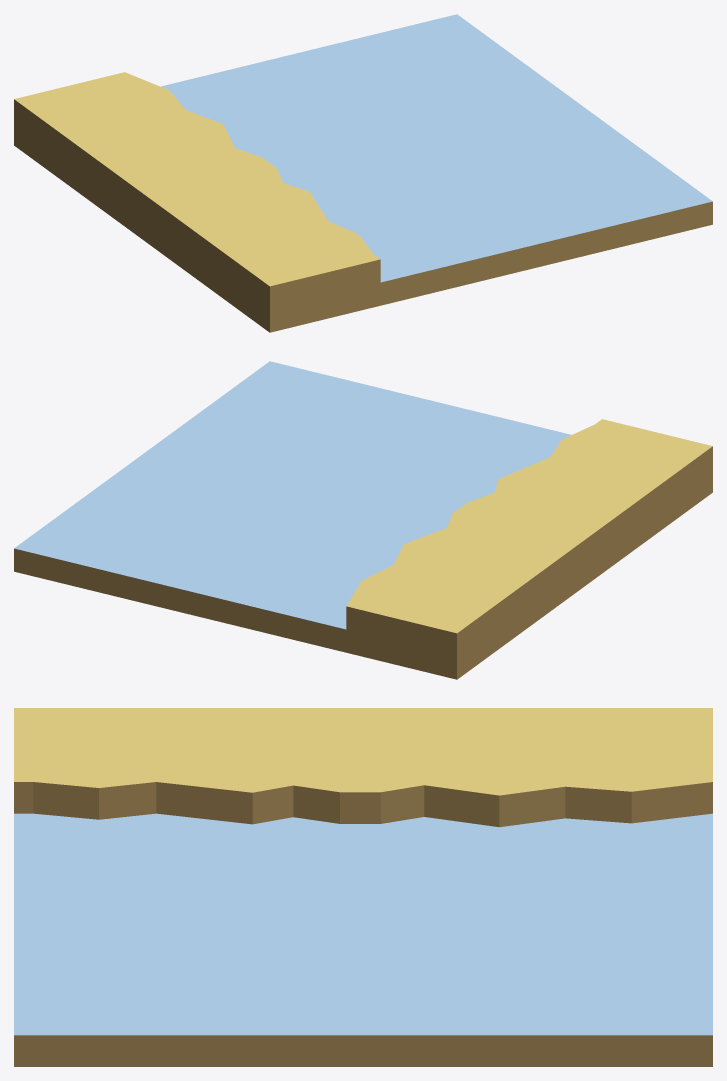
File: Terrain_Modular_Tiles_Sand_Dirt_Water_Edge_Straight_03.fbx
The picture shows the model from 3 angles, top to bottom: view 1: azimuth 30°, elevation 25°; view 2: azimuth 150°, elevation 25°; view 3: azimuth 270°, elevation 25°; orthographic projection. The views are drawn at different scales.
Parts seen in each view (by area): view 1: Terrain_Modular_Tiles_Sand_Dirt_Water_Edge_Straight_03; view 2: Terrain_Modular_Tiles_Sand_Dirt_Water_Edge_Straight_03; view 3: Terrain_Modular_Tiles_Sand_Dirt_Water_Edge_Straight_03.
Boxes of the visible parts, x1,y1,x2,y2 form: Terrain_Modular_Tiles_Sand_Dirt_Water_Edge_Straight_03: (14,14,712,332); Terrain_Modular_Tiles_Sand_Dirt_Water_Edge_Straight_03: (14,361,712,679); Terrain_Modular_Tiles_Sand_Dirt_Water_Edge_Straight_03: (14,708,712,1066).
Size of the model in its own units: 118 by 11.81 by 118.
